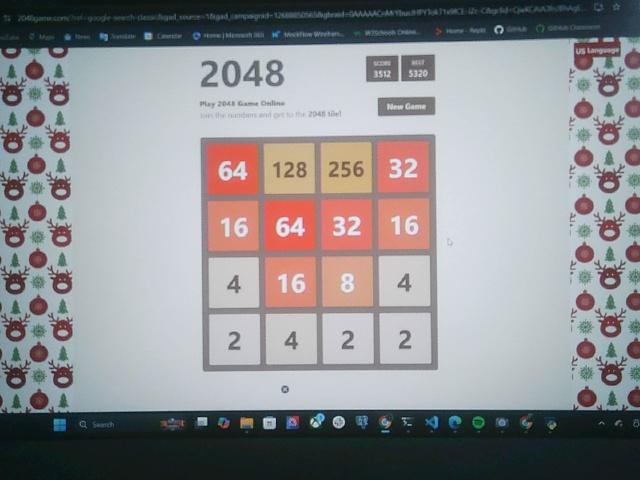board: (201, 137, 437, 370)
tile: (264, 199, 316, 251), (208, 202, 260, 253), (209, 314, 261, 365), (266, 258, 317, 310), (322, 257, 373, 309), (324, 313, 376, 364), (381, 313, 432, 365), (265, 143, 316, 194), (321, 143, 373, 193), (378, 141, 428, 193), (321, 201, 373, 251), (207, 143, 257, 194), (209, 257, 259, 308), (380, 256, 431, 306), (266, 315, 318, 364), (379, 202, 429, 249)
